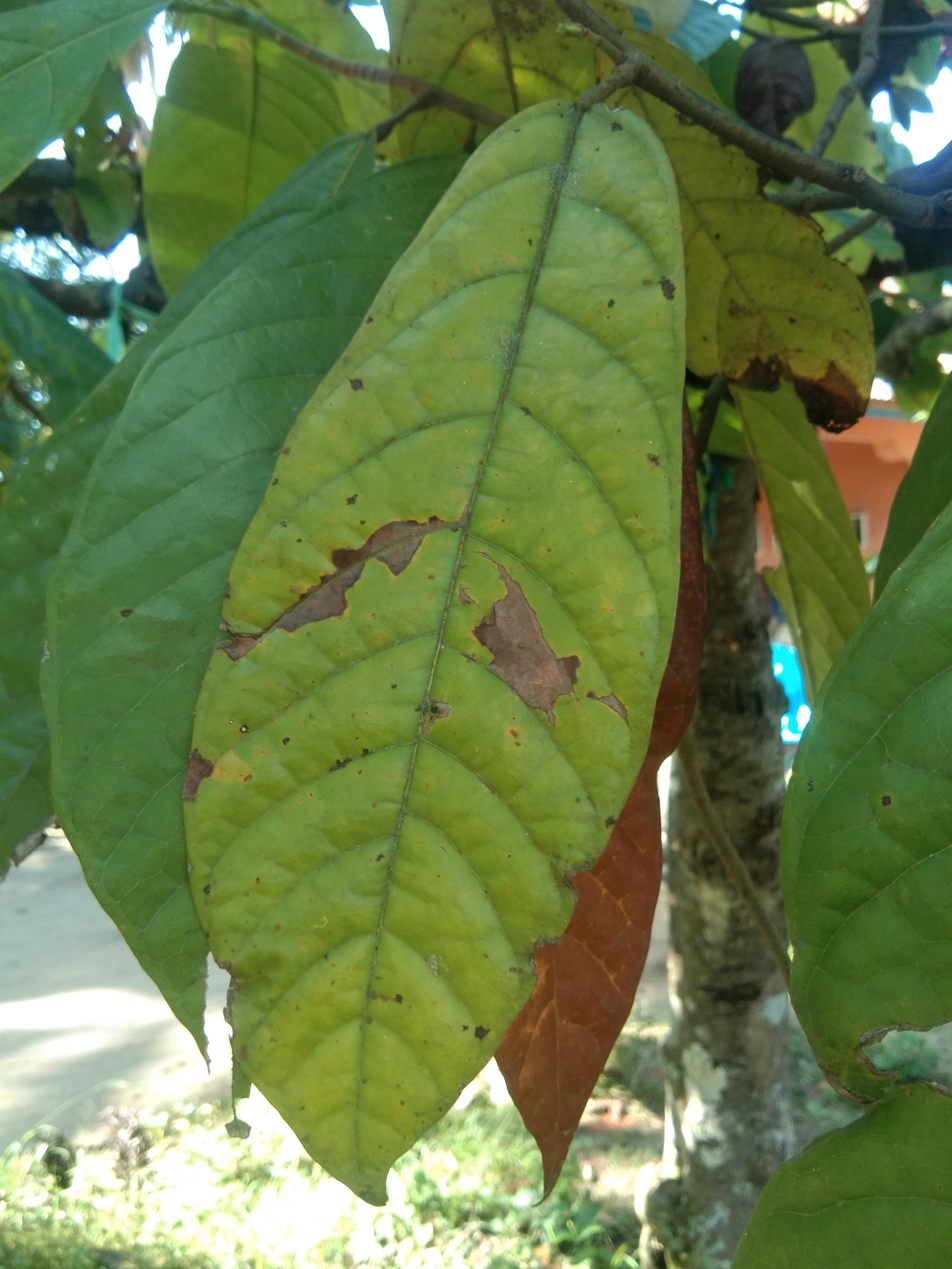deficiencia_potasio: (226, 82, 708, 1235)
